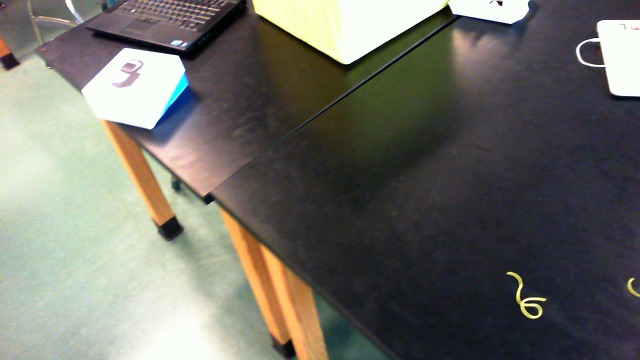cube: (252, 1, 447, 68)
